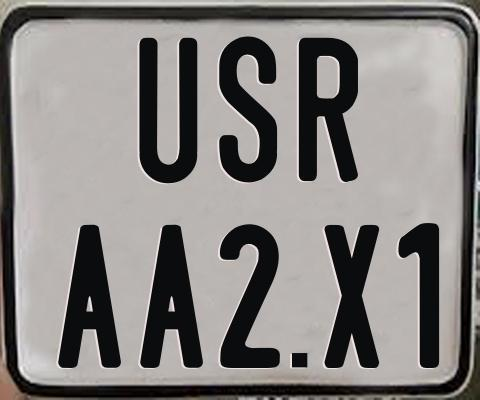1: (397, 221, 440, 369)
2: (218, 221, 282, 368)
A: (57, 222, 124, 367), (139, 222, 205, 368)
R: (296, 35, 358, 183)
S: (219, 34, 279, 183)
U: (138, 35, 198, 182)
X: (323, 225, 384, 368)
